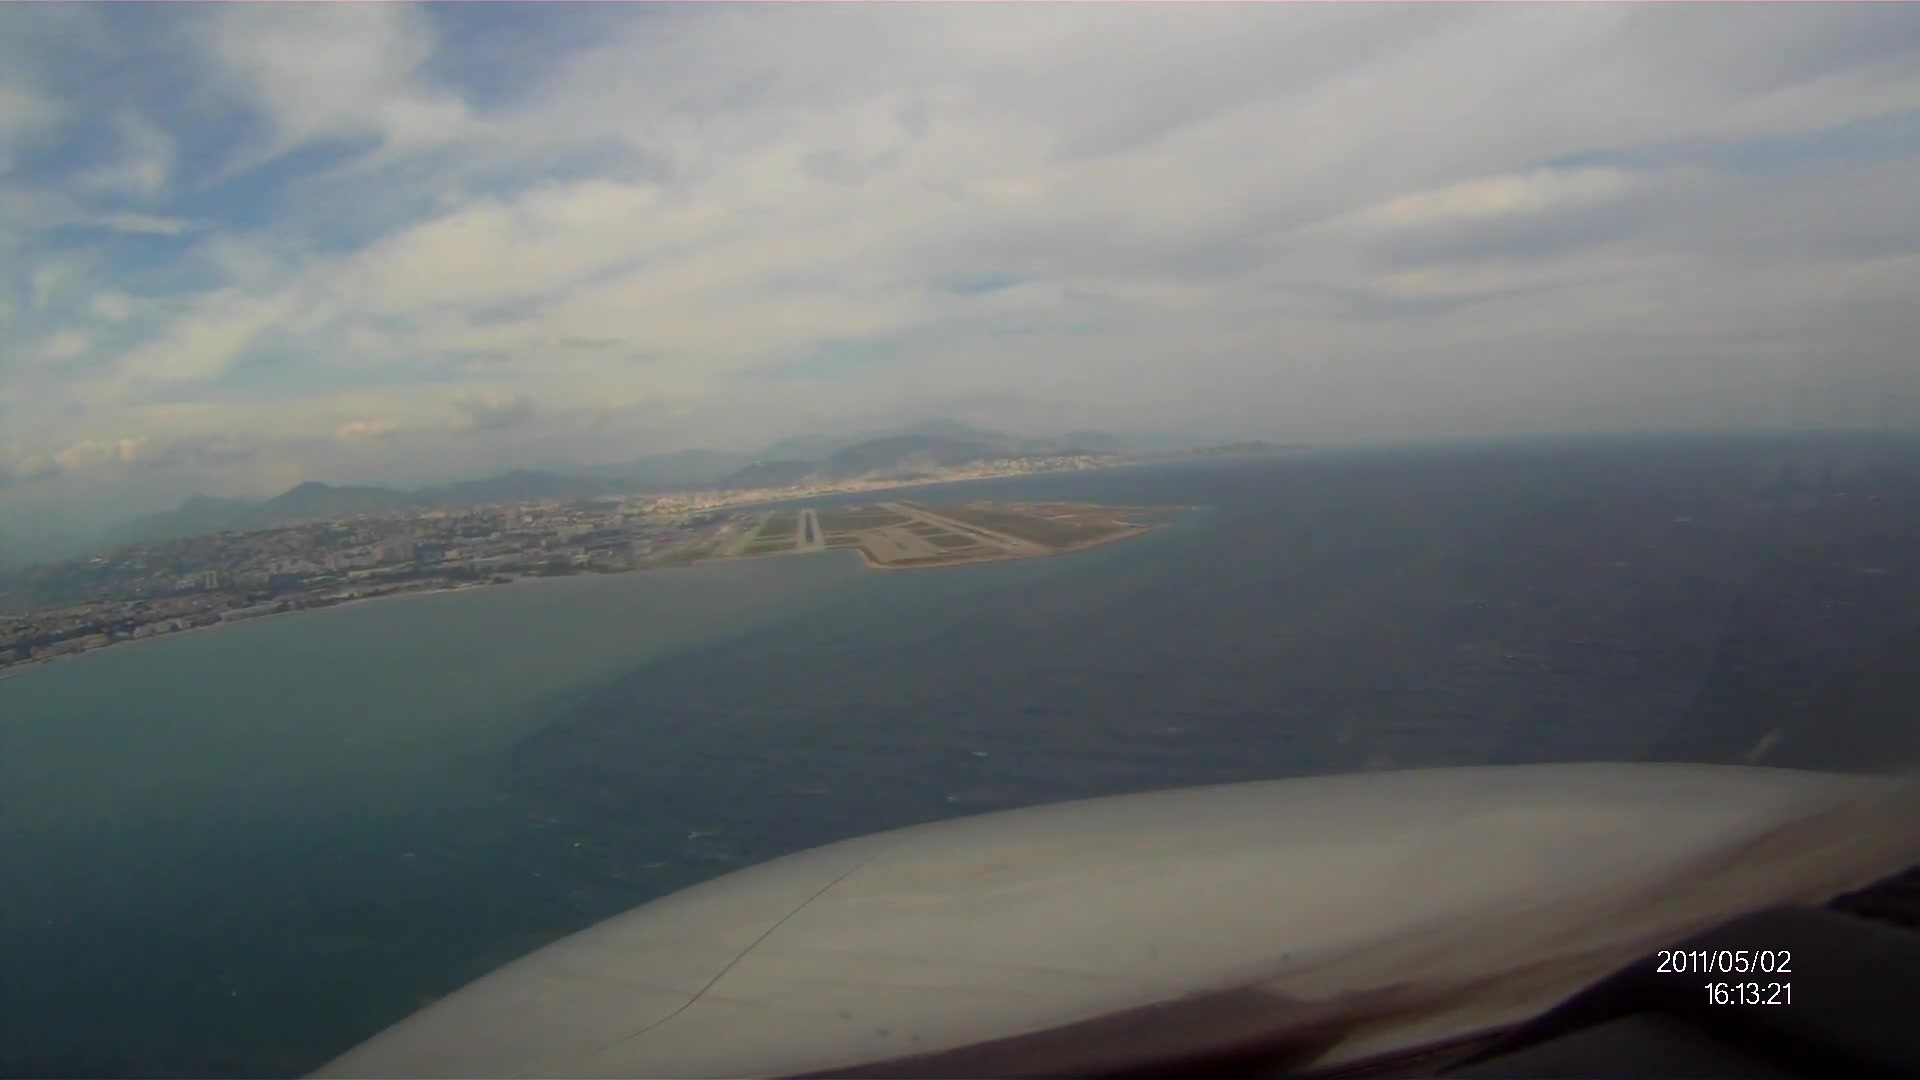runway: (872, 501, 1056, 554), (790, 505, 825, 558)
